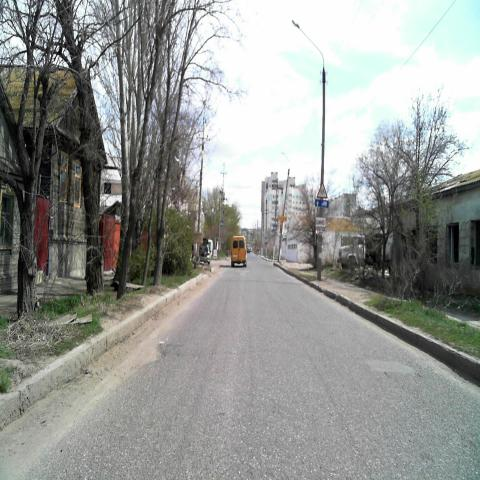6_15_1: (315, 196, 329, 208)
